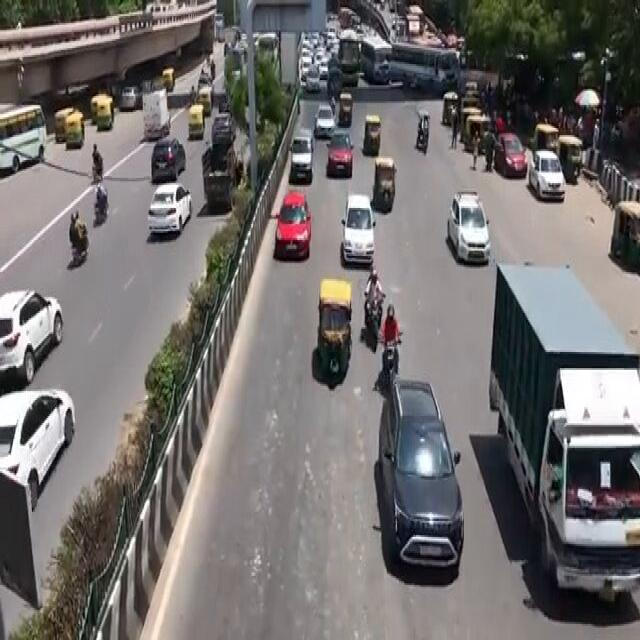three_wheeler: (299, 261, 360, 409)
